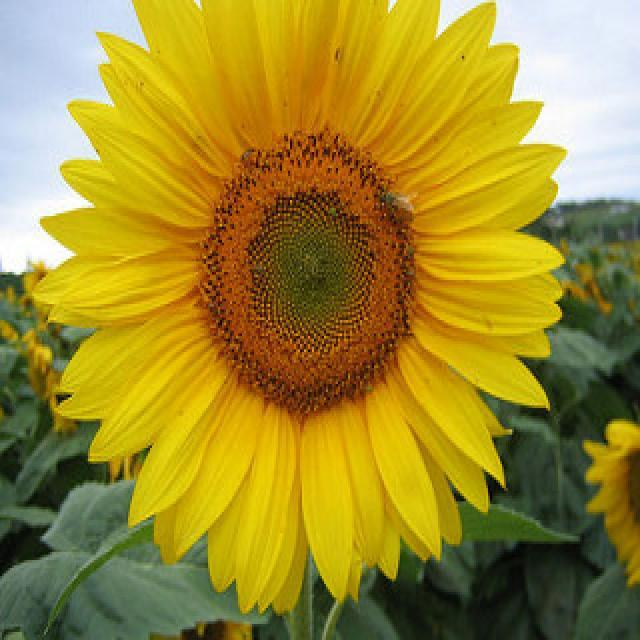sunflower: (32, 1, 566, 614), (584, 418, 640, 577)
